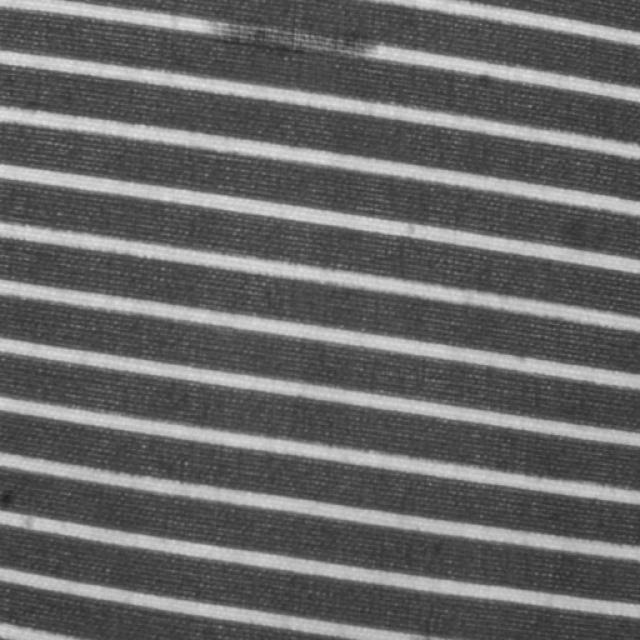Stain-Defect: (211, 3, 380, 66)
